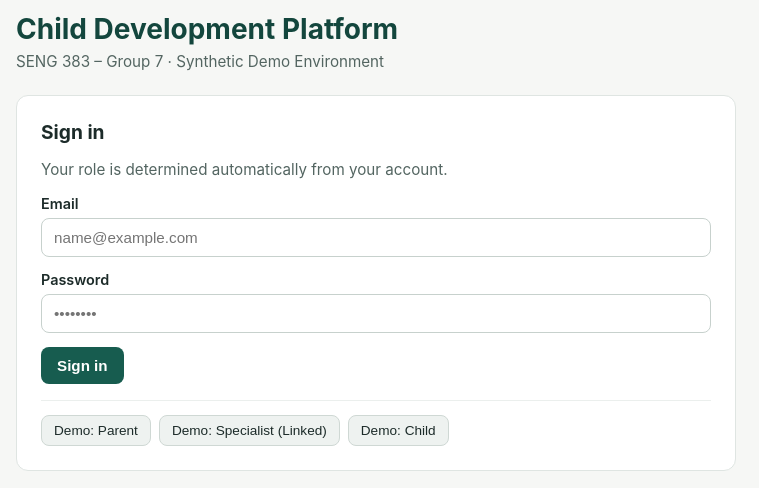
Scenario: Walking skeleton login and role screens › shows the account role screen for Parent and clears it on logout
This screenshot has width=759, height=488.
Click the button "Demo: Parent".
click(96, 430)  # box [41, 415, 151, 446]
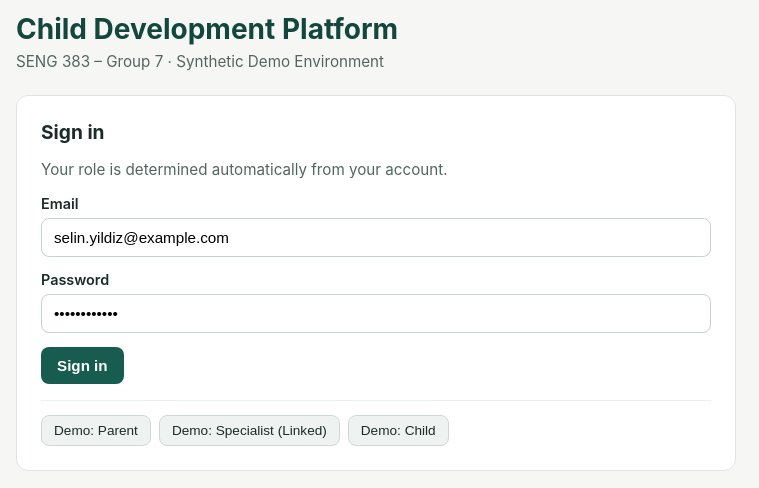
Click the button "Sign in".
click(82, 365)  # box [41, 347, 124, 384]
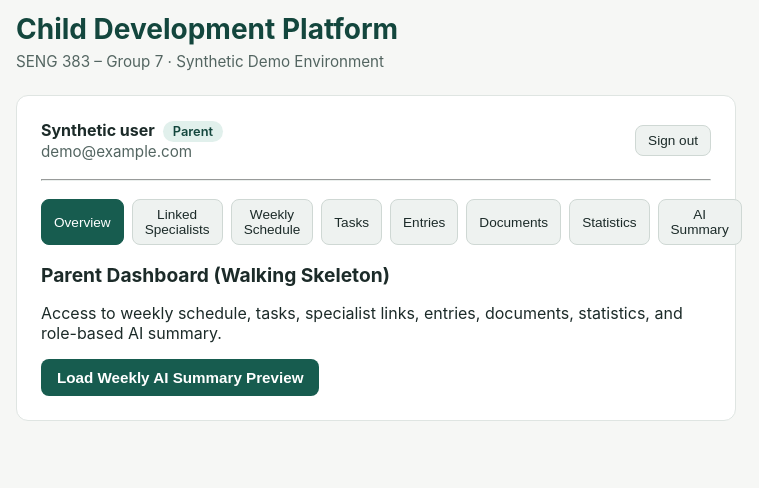
Expected: the heading "Parent Dashboard (Walking Skeleton)" is shown, [41, 263, 390, 287]
Click the button "Sign out".
click(673, 140)  # box [635, 125, 711, 156]
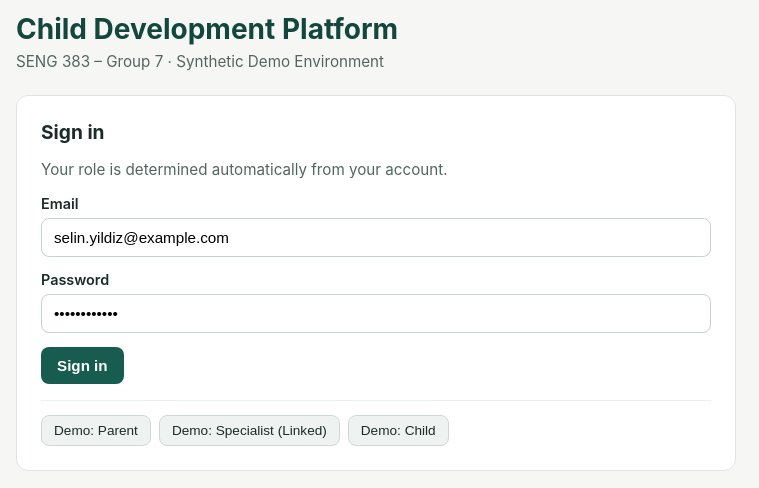
Expected: the heading "Sign in" is shown, [41, 120, 104, 144]
Expected: the heading "Parent Dashboard (Walking Skeleton)" is gone
